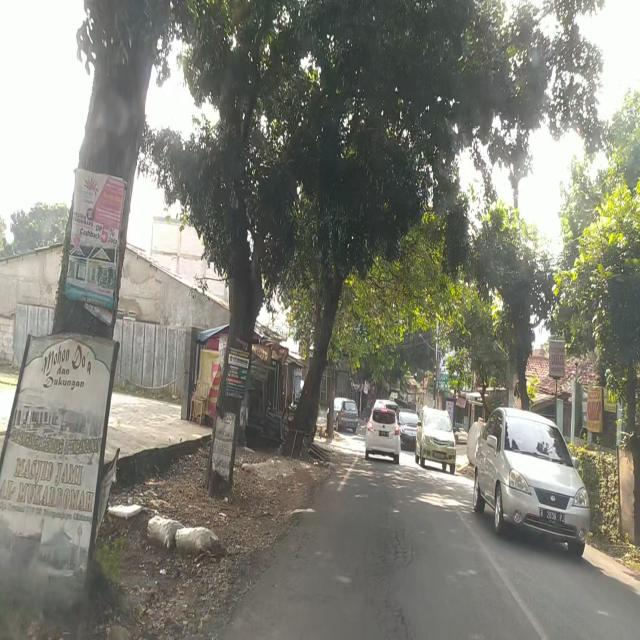Drain Hole: (374, 519, 415, 582), (372, 590, 418, 640)
